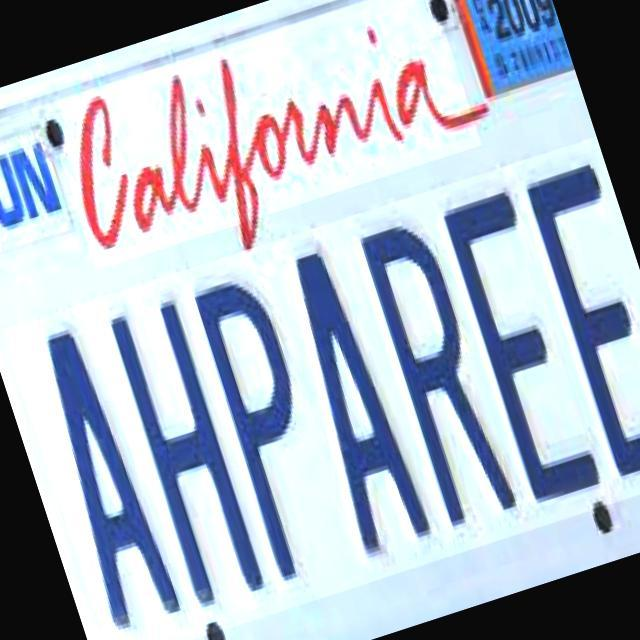Plat: (2, 3, 638, 640)
